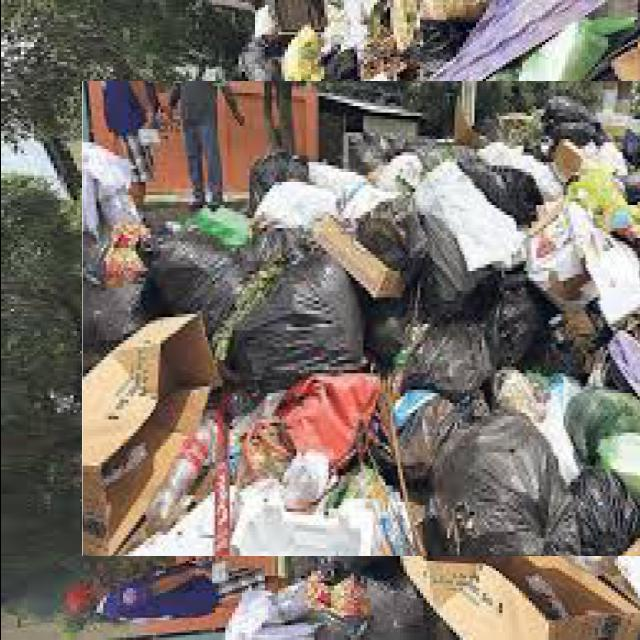Trashbag: (424, 408, 640, 558), (403, 224, 553, 407), (224, 253, 368, 403), (134, 228, 249, 321), (356, 194, 419, 268), (247, 147, 315, 210), (467, 160, 537, 220), (538, 98, 596, 149)
